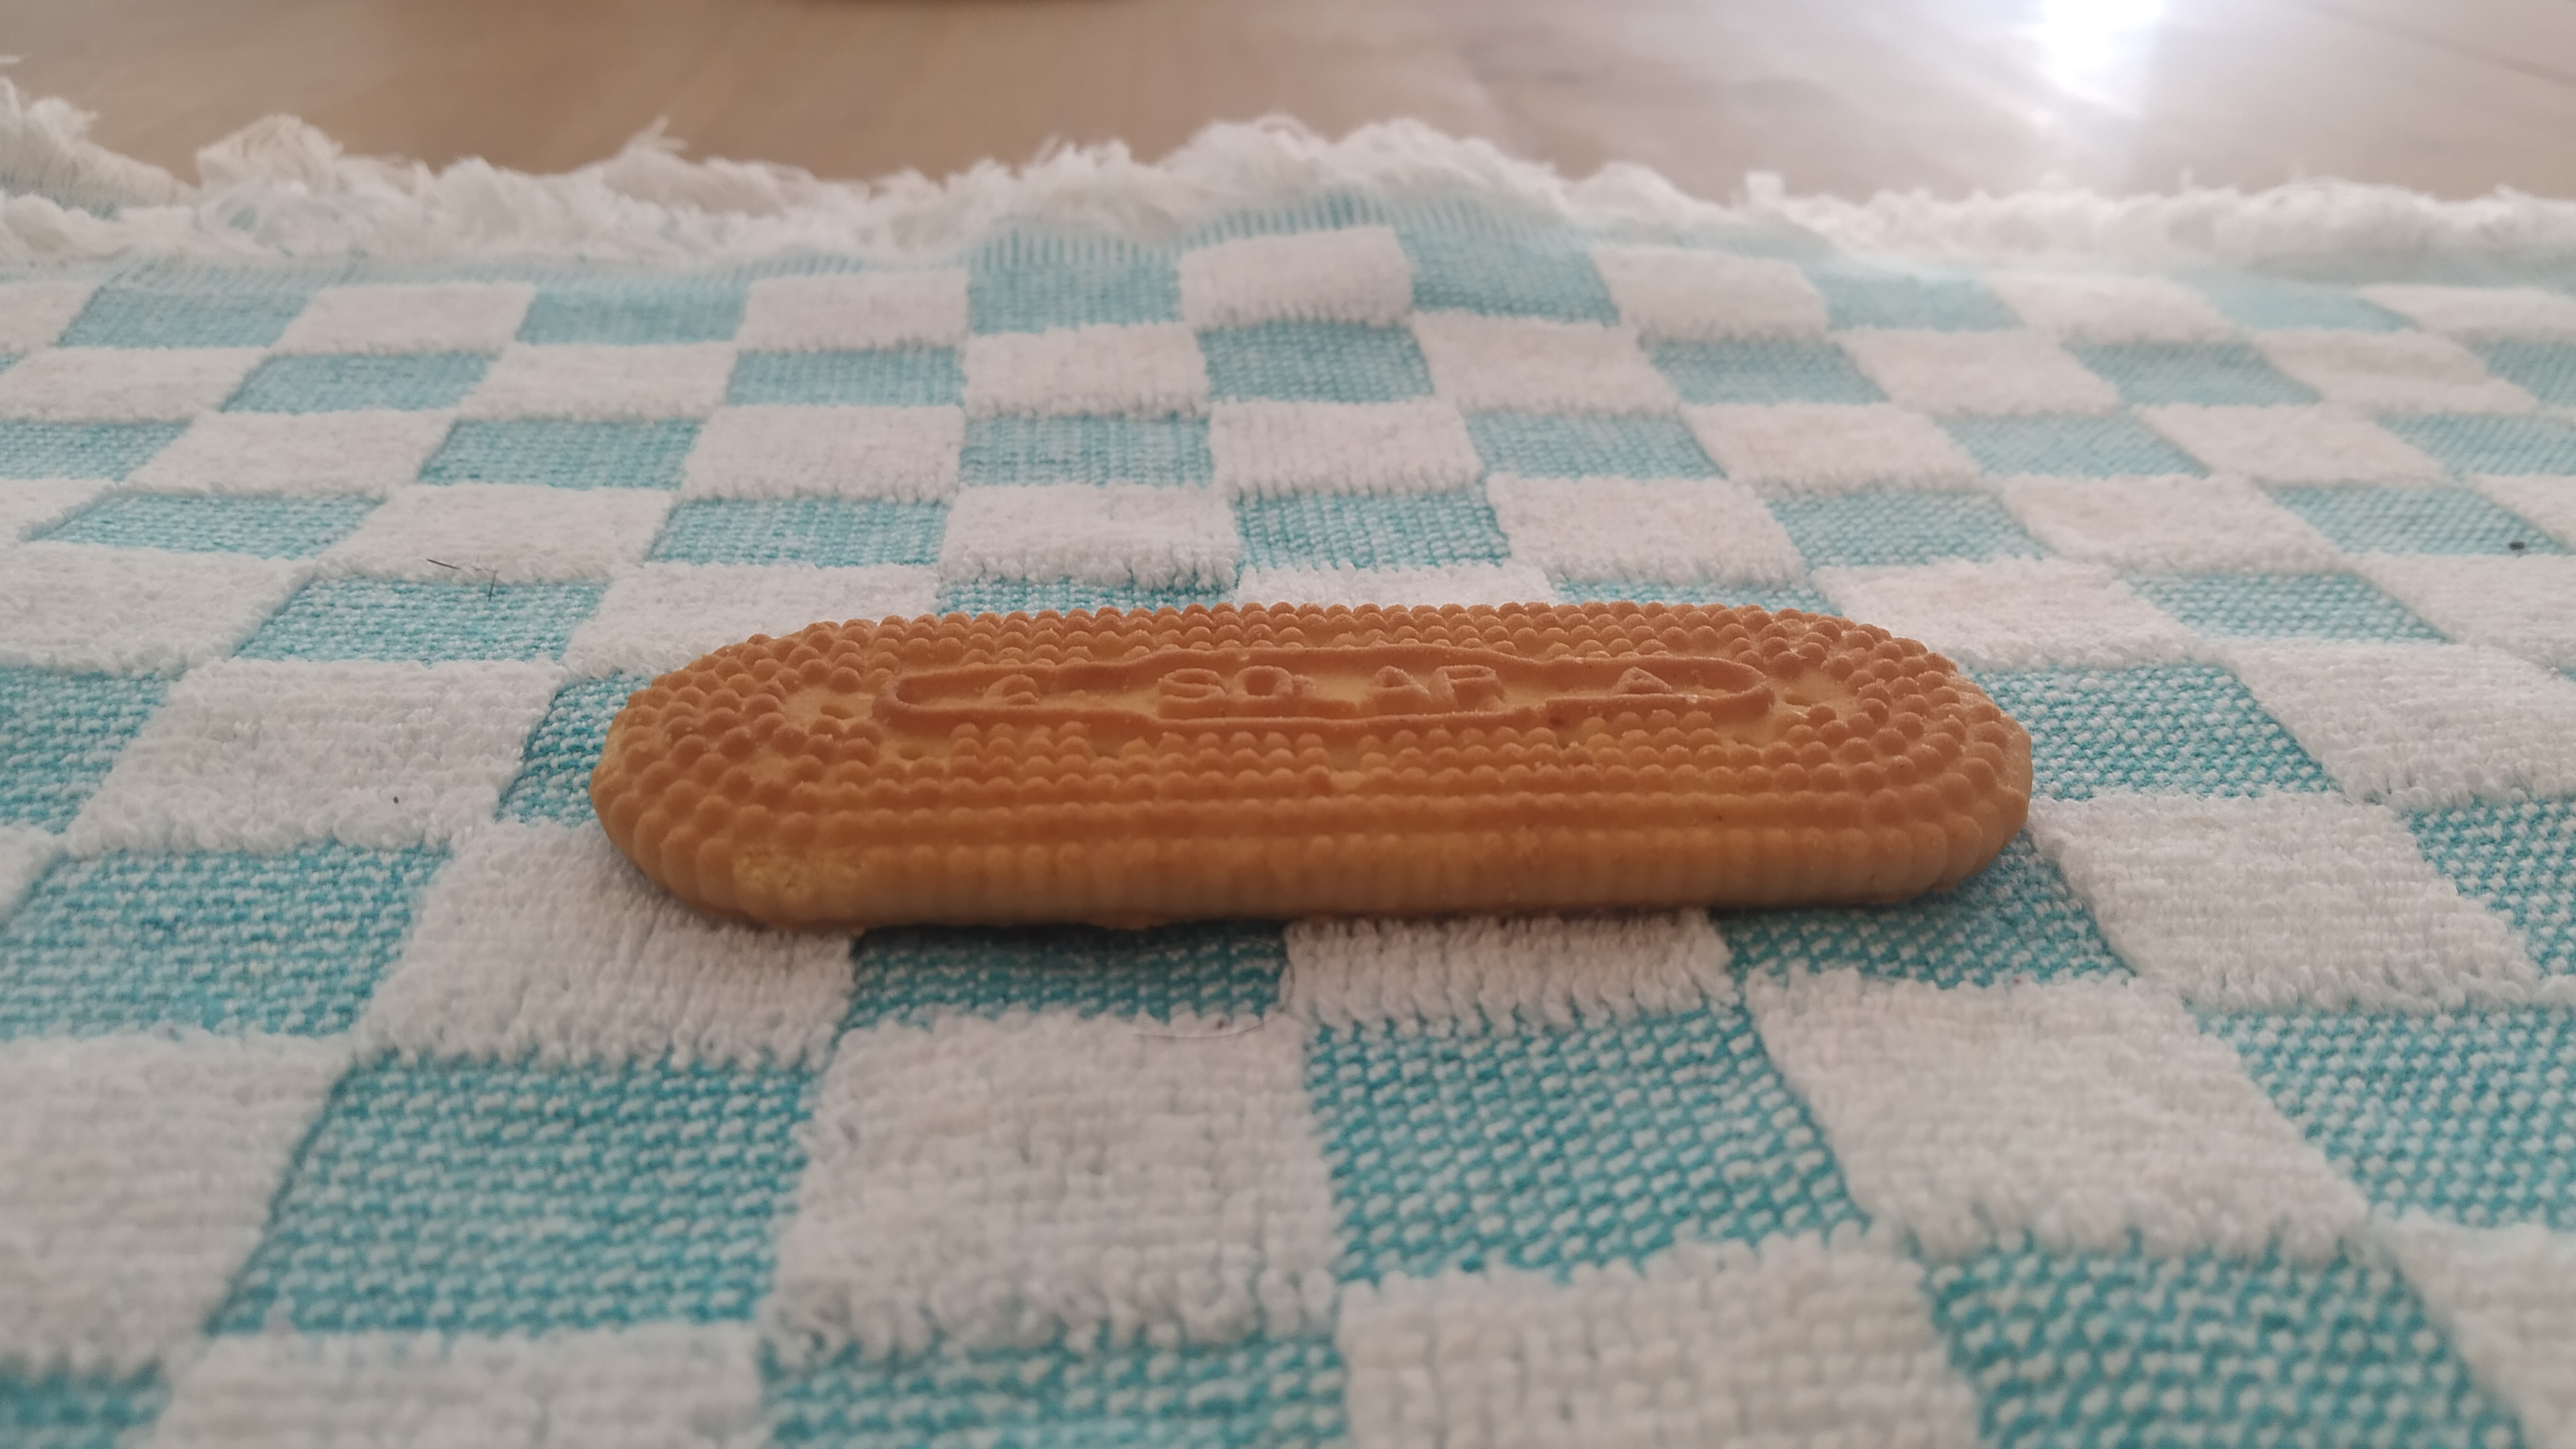solar: (589, 600, 2035, 924)
